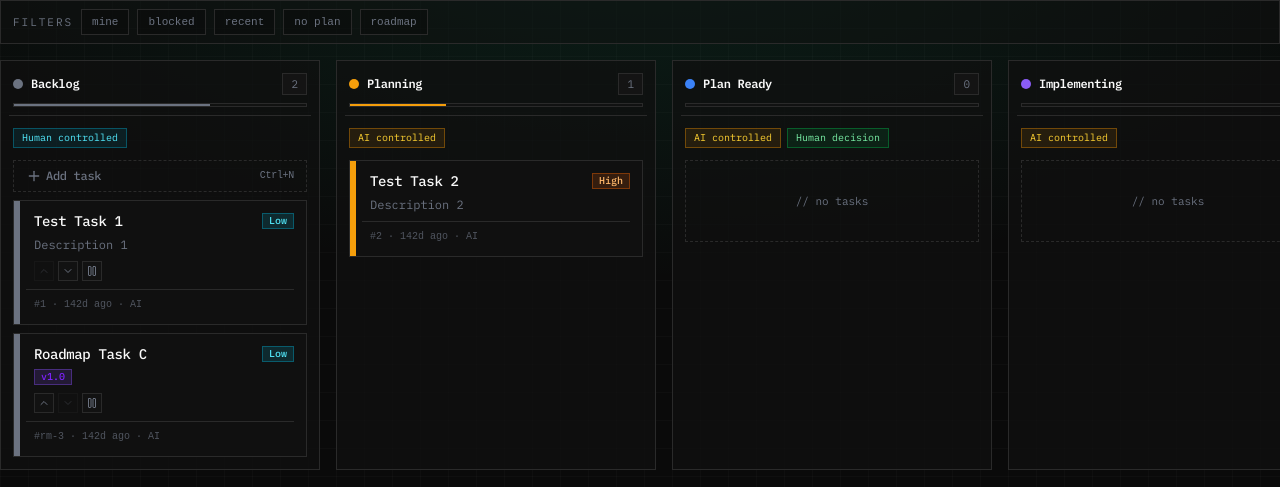
Board › should clear roadmap alias sub-filters when roadmap filter is deactivated
Note: Activate roadmap filter, select alias
Click the button "roadmap". click: (394, 22)
box: [360,9,428,35]
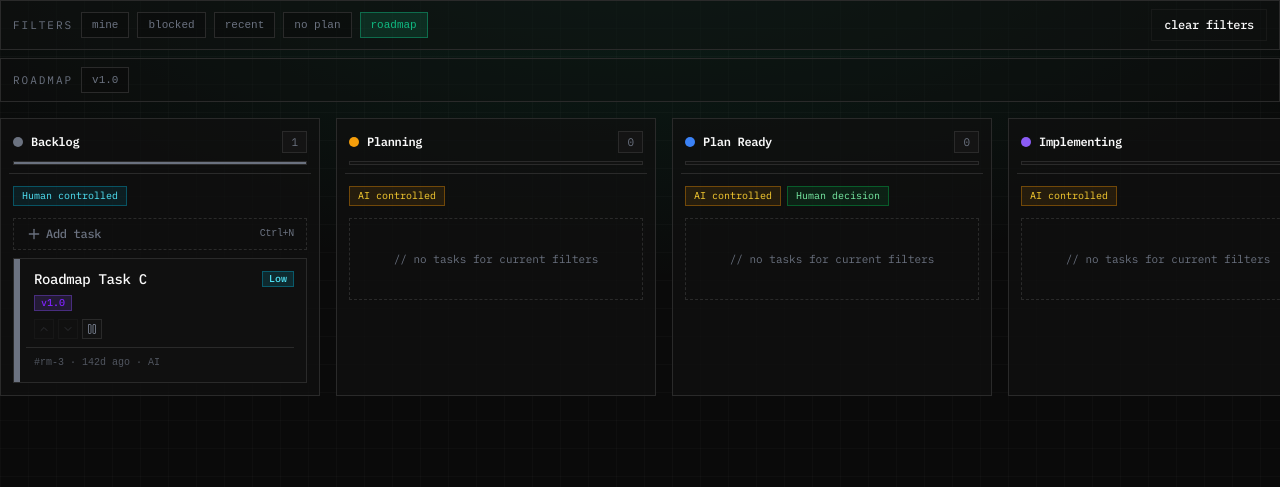
Click the button "v1.0". click: (105, 80)
box: [81,67,130,93]
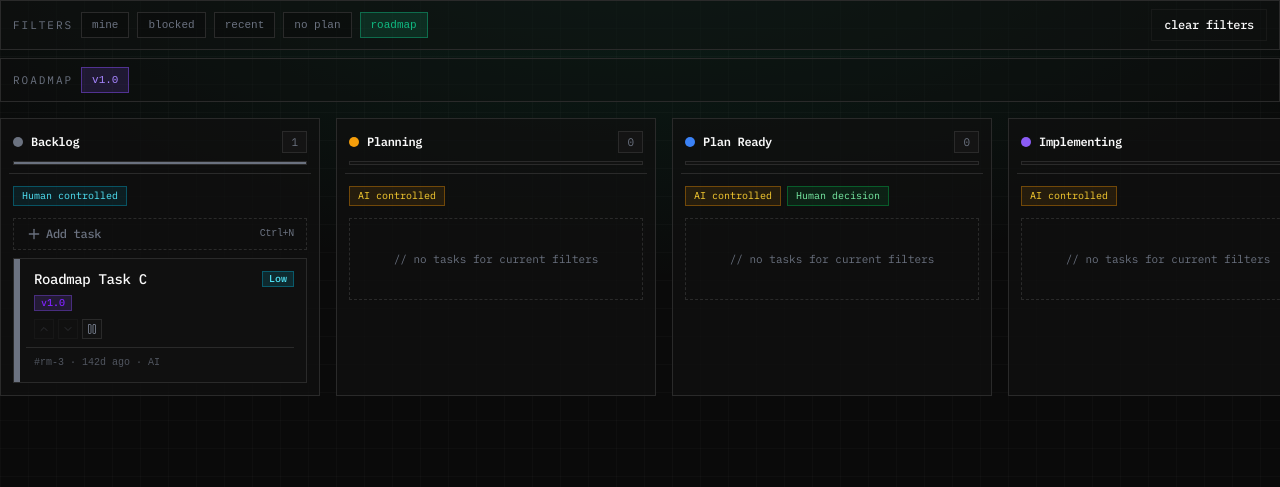
Note: Deactivate roadmap filter
Click the button "roadmap". click: (394, 25)
box: [360,12,428,38]
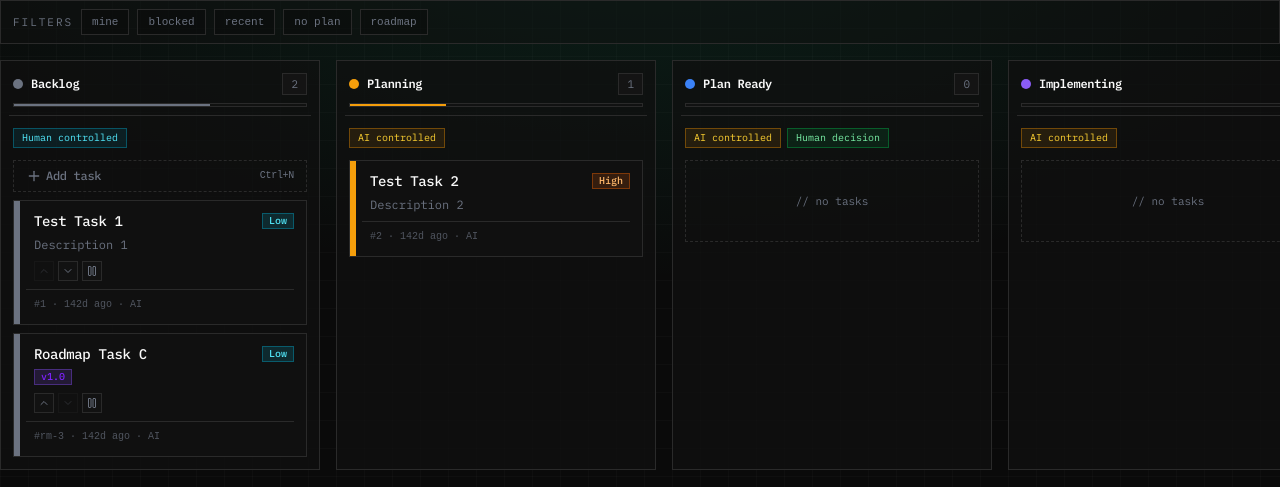
Expected: the element with test id "roadmap-alias-filters" is gone
